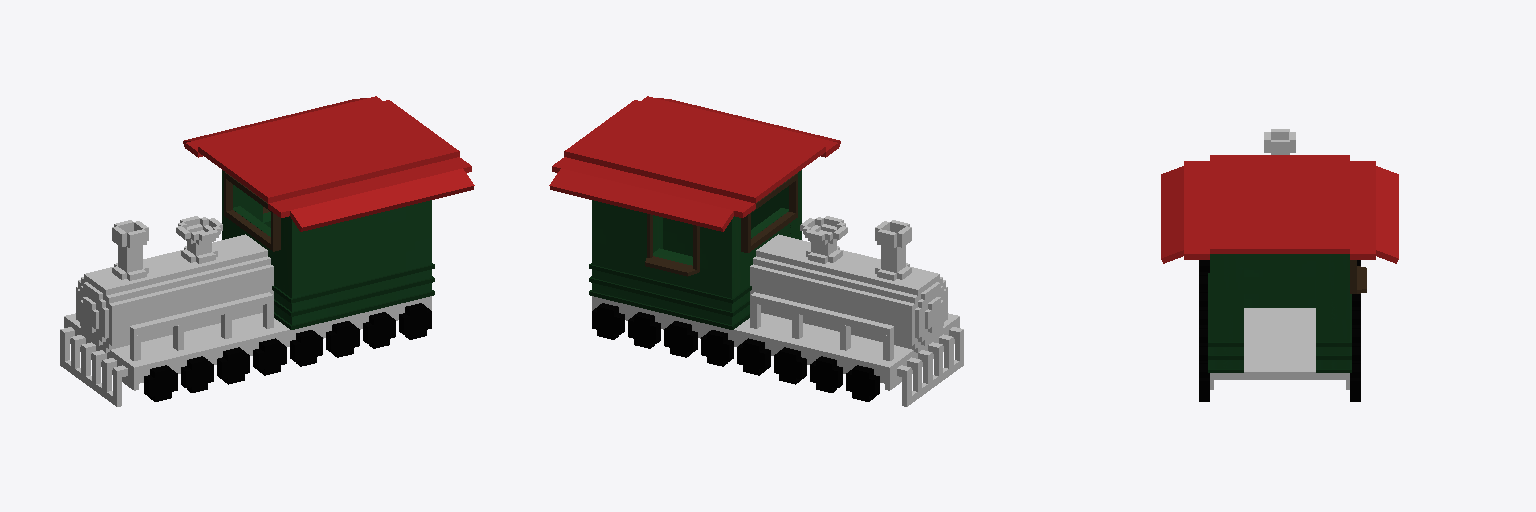
3 renders of one model, left to right at view 1: azimuth 30°, elevation 25°; view 2: azimuth 150°, elevation 25°; view 3: azimuth 270°, elevation 25°, orthographic.
Parts seen in each view (by area): view 1: cube; view 2: cube; view 3: cube.
Part boxes in pixels (x1,y1,x2,y2): cube: (60, 96, 474, 406); cube: (549, 96, 963, 406); cube: (1161, 129, 1398, 401).
Size of the model in its own units: 1.16 by 0.5875 by 0.7073.
9 materials, 5 textured.